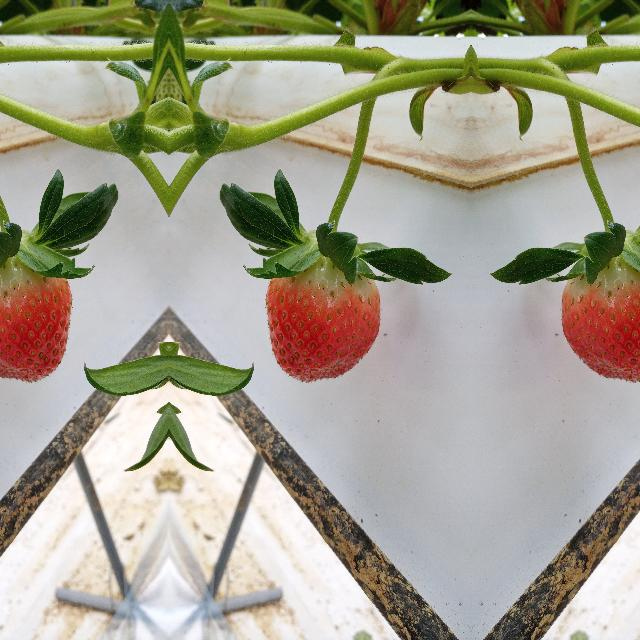Health_100: (264, 257, 381, 383), (560, 257, 640, 383), (0, 257, 72, 383)
